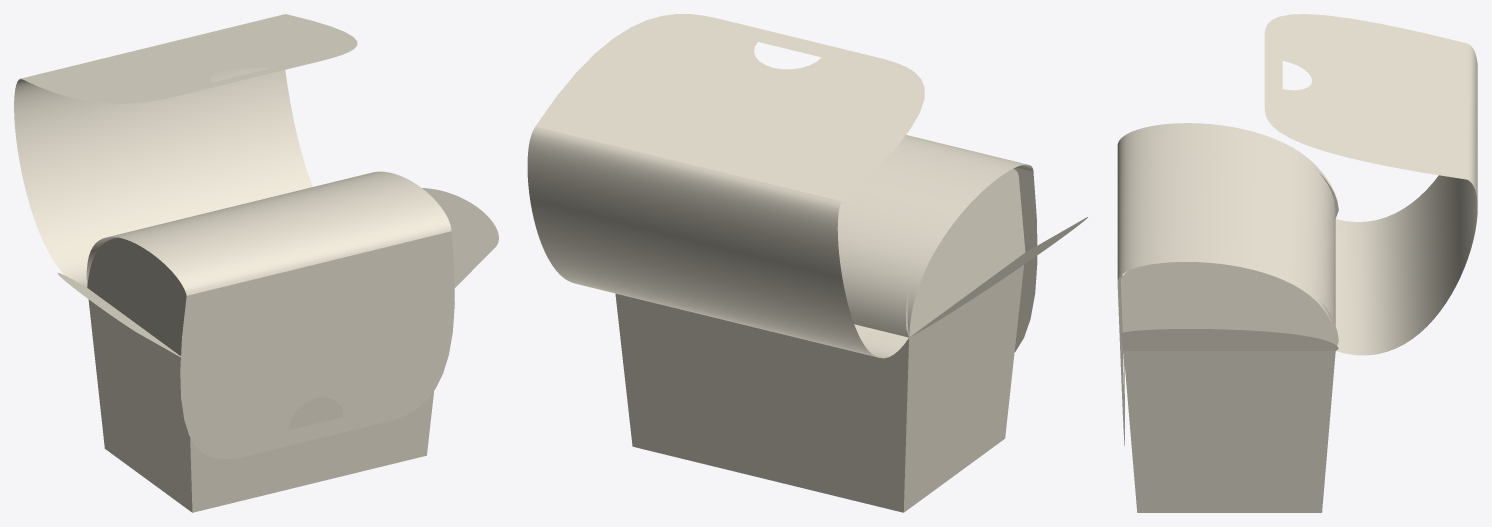
The picture shows the model from 3 angles, left to right: view 1: azimuth 30°, elevation 25°; view 2: azimuth 150°, elevation 25°; view 3: azimuth 270°, elevation 25°; orthographic projection. The views are drawn at different scales.
Visible parts, largest first — view 1: Closure outside, Curved roof inside.001, Curved roof outside, Closure outside.001, Left side, Front panel, Left wing outside, Right wing inside.001, Left wing inside.001; view 2: Curved roof outside.001, Closure outside.001, Back panel, Curved roof outside, Left side, Left wing outside, Closure inside, Left wing inside.001, Curved roof inside.001; view 3: Right side, Curved roof outside, Closure outside.001, Curved roof inside.001, Right wing outside, Right wing outside.001, Curved roof outside.001, Closure inside.
Boxes of the visible parts, x1,y1,x2,y2 form: Closure outside: (180, 231, 454, 459); Curved roof inside.001: (14, 67, 312, 287); Curved roof outside: (108, 171, 451, 295); Closure outside.001: (21, 14, 357, 103); Left side: (88, 299, 192, 512); Front panel: (190, 391, 433, 512); Left wing outside: (87, 237, 186, 355); Right wing inside.001: (422, 188, 498, 287); Left wing inside.001: (57, 273, 180, 357); Curved roof outside.001: (527, 126, 877, 357); Closure outside.001: (535, 14, 924, 201); Back panel: (615, 293, 908, 512); Curved roof outside: (837, 135, 1027, 337); Left side: (903, 265, 1023, 512); Left wing outside: (906, 169, 1025, 337); Closure inside: (1013, 167, 1037, 351); Left wing inside.001: (910, 217, 1087, 336); Curved roof inside.001: (854, 324, 908, 358); Right side: (1123, 351, 1335, 512); Curved roof outside: (1117, 123, 1335, 339); Closure outside.001: (1264, 14, 1467, 179); Curved roof inside.001: (1335, 175, 1477, 355); Right wing outside: (1120, 262, 1338, 345); Right wing outside.001: (1121, 329, 1338, 350); Curved roof outside.001: (1467, 43, 1477, 200); Closure inside: (1117, 274, 1124, 445).
Size of the model in its own units: 0.1881 by 0.1684 by 0.1443.
